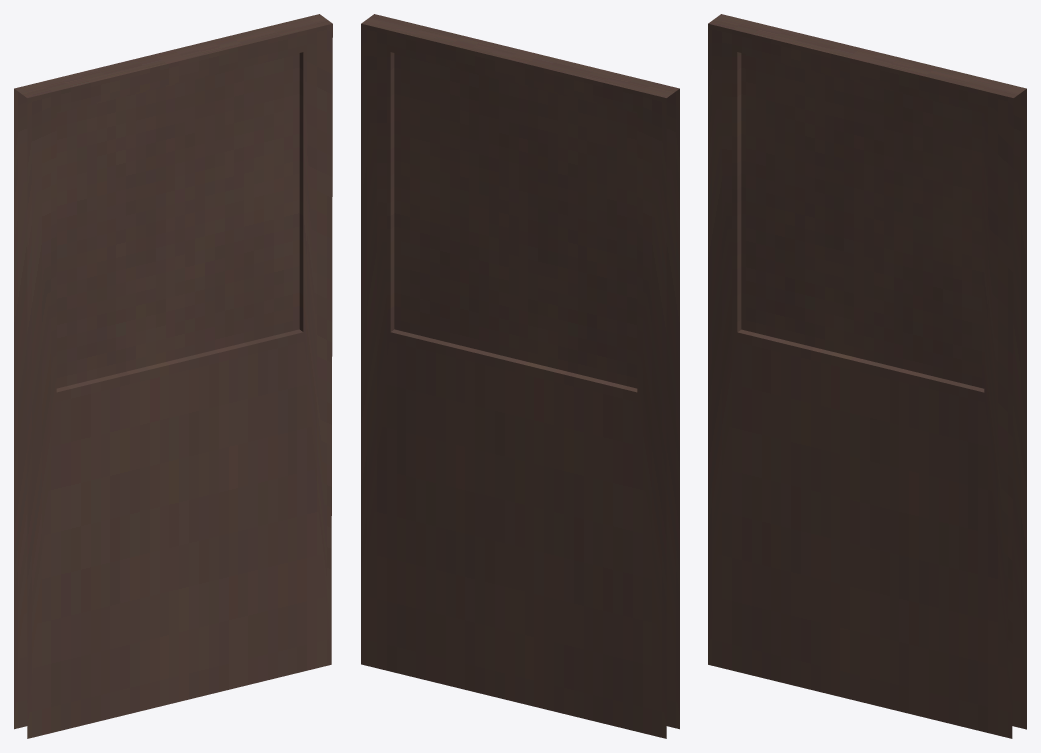
Rendered from EndWall_Wood.fbx.
3 renders of one model, left to right at view 1: azimuth 30°, elevation 25°; view 2: azimuth 150°, elevation 25°; view 3: azimuth 330°, elevation 25°, orthographic.
Parts seen in each view (by area): view 1: EndWall; view 2: EndWall; view 3: EndWall.
Part boxes in pixels (box(x1,y1,x2,y2)): EndWall: box(14, 14, 332, 738); EndWall: box(361, 14, 679, 738); EndWall: box(708, 14, 1026, 738).
Size of the model in its own units: 10 by 20.04 by 0.75.
